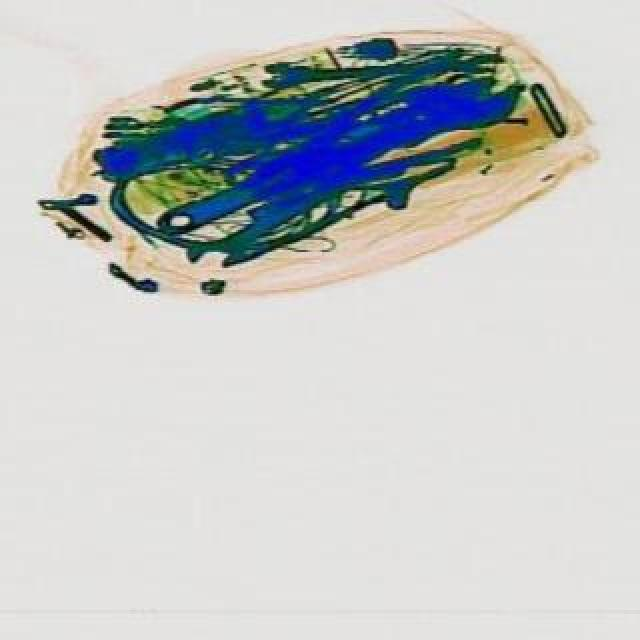scissors: (142, 60, 526, 260), (178, 160, 362, 288)
